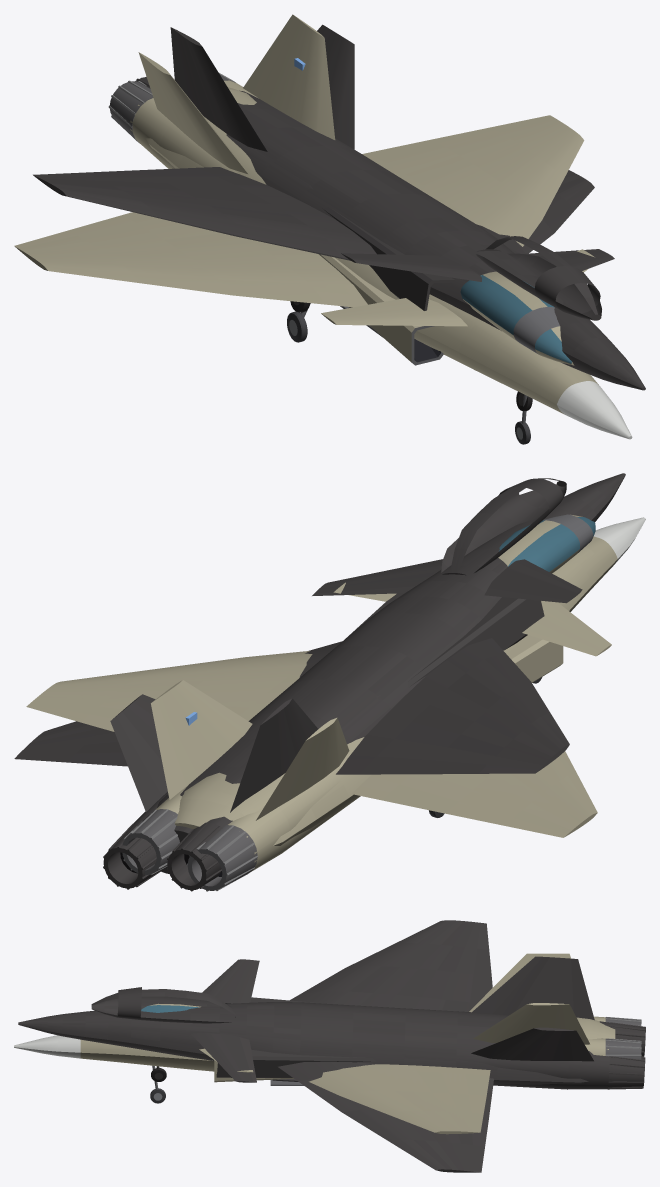
File: stealthFighter__j_20.glb
The picture shows the model from 3 angles, top to bottom: view 1: azimuth 30°, elevation 25°; view 2: azimuth 150°, elevation 25°; view 3: azimuth 270°, elevation 25°; orthographic projection. The views are drawn at different scales.
Visible parts, largest first — view 1: Fuselage_Mesh, Wreck; view 2: Wreck, Fuselage_Mesh; view 3: Wreck, Fuselage_Mesh.
Boxes of the visible parts, box(x1,y1,x2,y2) form: Fuselage_Mesh: box(14, 14, 632, 444); Wreck: box(33, 24, 645, 410); Wreck: box(14, 473, 625, 891); Fuselage_Mesh: box(26, 514, 645, 891); Wreck: box(18, 920, 645, 1172); Fuselage_Mesh: box(14, 953, 641, 1134).
Size of what is drawn, in the model's own units: 13.8 by 4.81 by 20.59.
